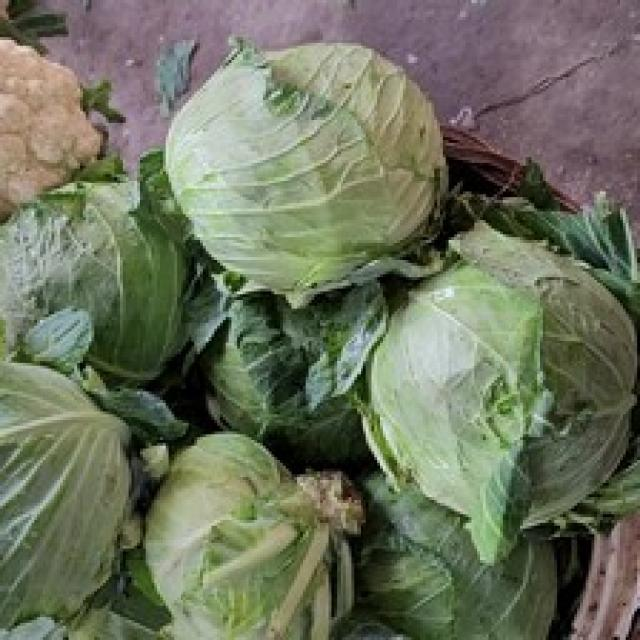Cabbage: (160, 31, 449, 306)
